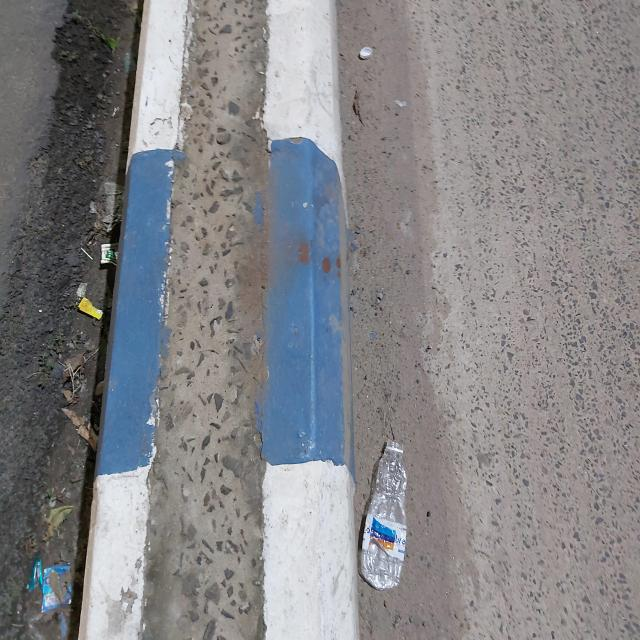bottle: (357, 428, 427, 598)
